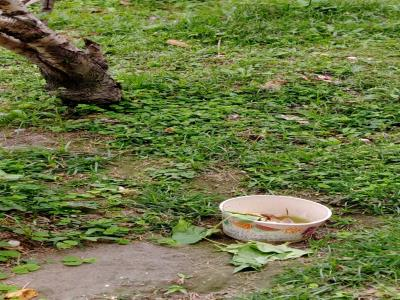bowl: (215, 191, 337, 245)
